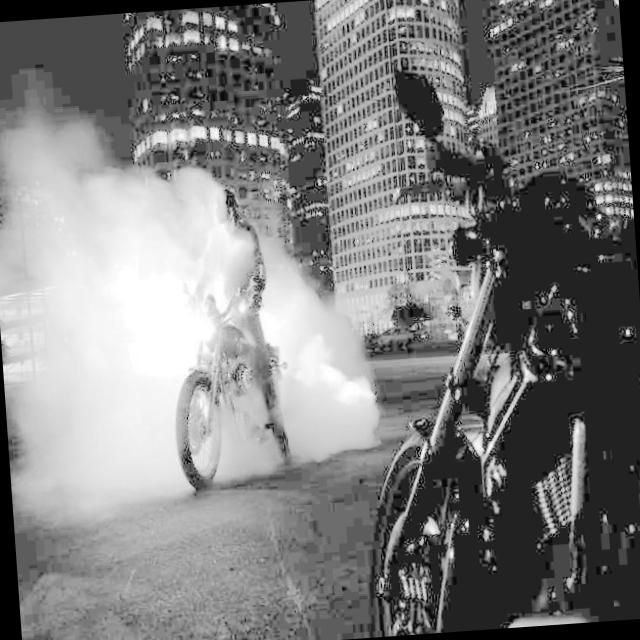Motorcycle: (308, 54, 640, 639), (137, 272, 334, 527)
